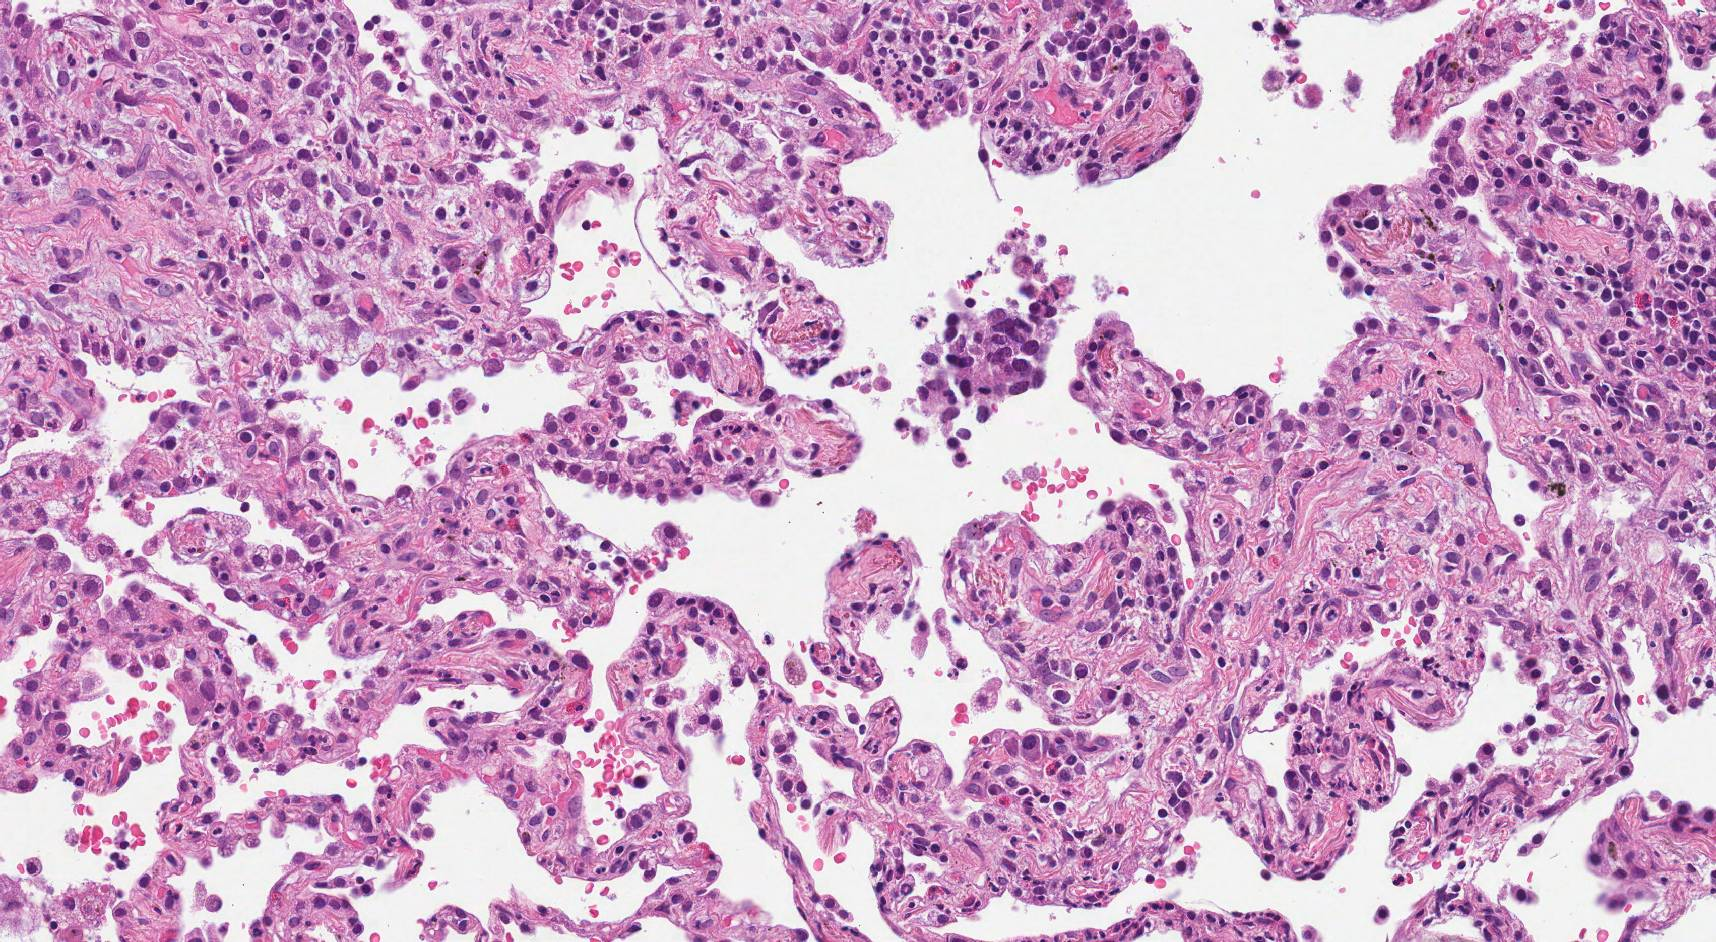stas: (895, 294, 1057, 469)
